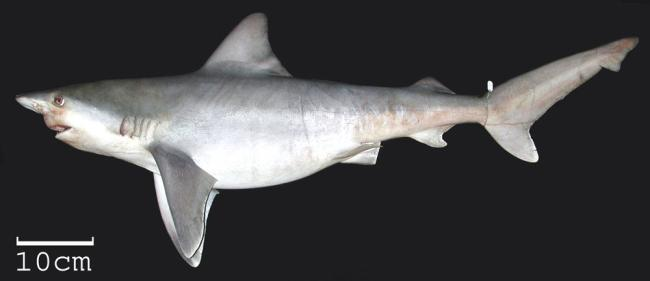fish: (16, 13, 638, 268)
